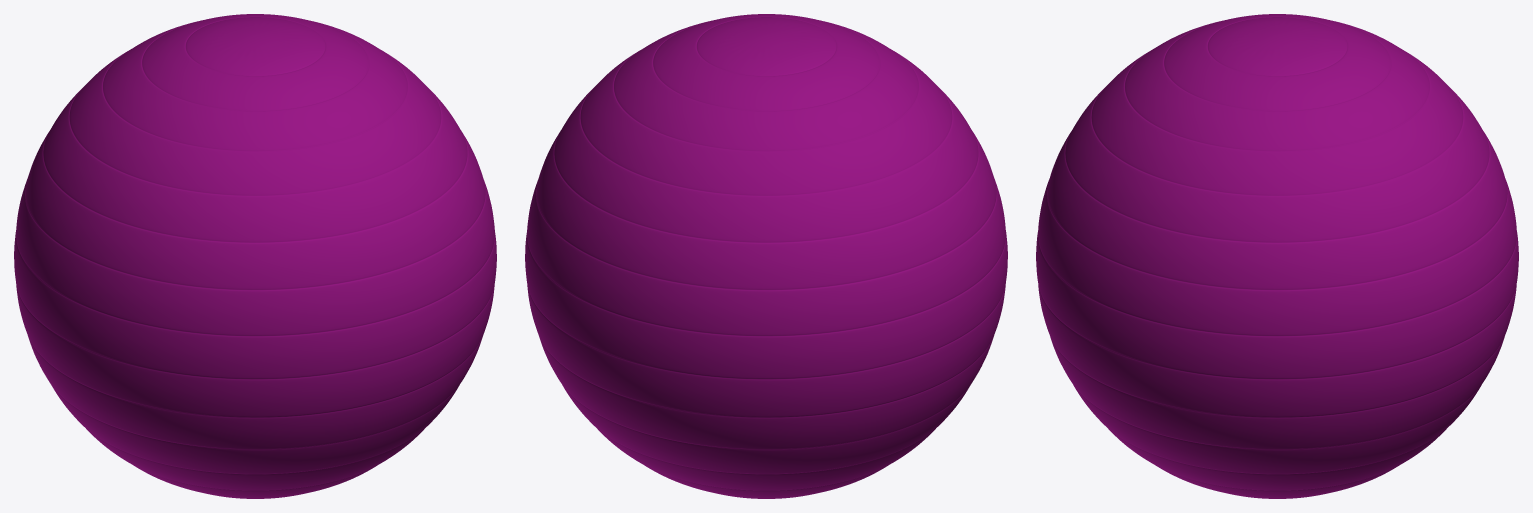
File: bouncy ball.fbx
3 renders of one model, left to right at view 1: azimuth 30°, elevation 25°; view 2: azimuth 150°, elevation 25°; view 3: azimuth 270°, elevation 25°, orthographic.
Visible parts, largest first — view 1: Ball; view 2: Ball; view 3: Ball.
Part boxes in pixels (x1,y1,x2,y2): Ball: (14, 14, 496, 498); Ball: (525, 14, 1007, 498); Ball: (1036, 14, 1518, 498).
Size of the model in its own units: 158 by 160 by 158.
